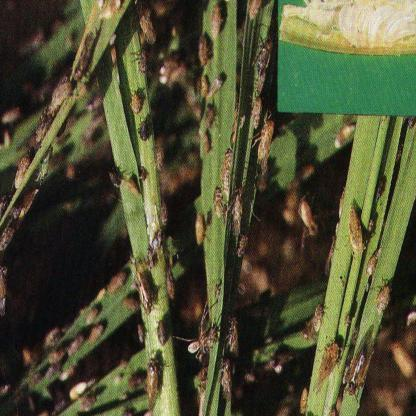brown-planthopper: (346, 347, 376, 396), (318, 344, 340, 386), (145, 359, 160, 412), (348, 206, 364, 254), (136, 9, 155, 45), (258, 123, 275, 161), (15, 155, 34, 189), (52, 81, 74, 110), (135, 276, 151, 314), (108, 266, 128, 292), (259, 38, 272, 76), (366, 250, 382, 278), (221, 366, 233, 402), (313, 303, 326, 336), (210, 186, 223, 218), (377, 282, 389, 315), (210, 4, 221, 38), (233, 196, 242, 236), (166, 270, 177, 301), (124, 176, 140, 197), (157, 320, 168, 348), (208, 78, 224, 97), (230, 326, 240, 356), (194, 214, 204, 244), (221, 166, 230, 198), (130, 92, 142, 116), (108, 168, 122, 188), (158, 202, 168, 229), (253, 97, 262, 126), (206, 109, 218, 130), (198, 35, 206, 66), (138, 50, 148, 74), (156, 144, 165, 170), (249, 0, 261, 18), (139, 121, 150, 140), (202, 134, 211, 156), (199, 77, 208, 98)
